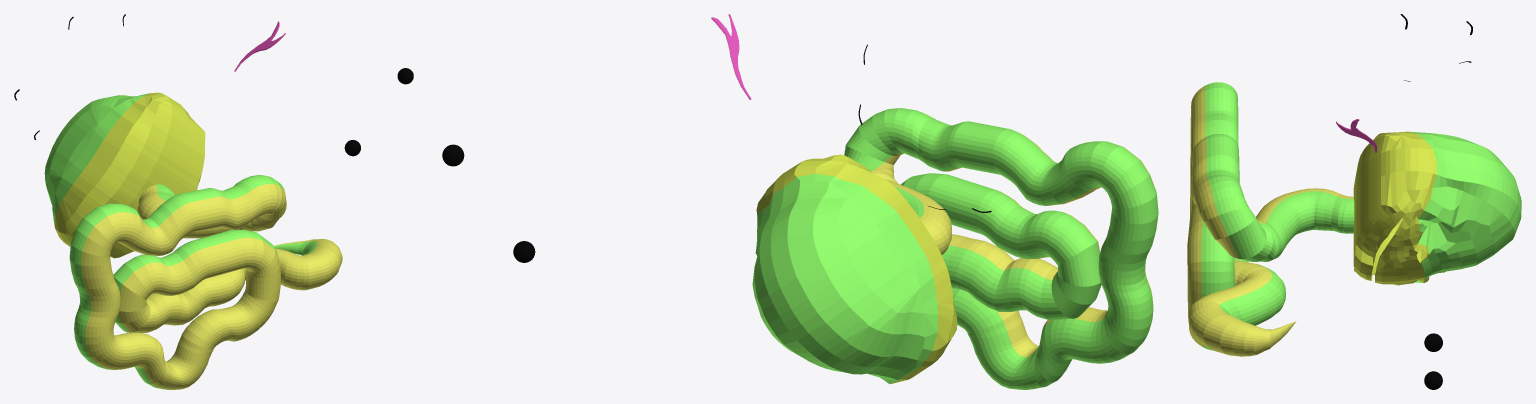
The model's file is snakeok.gltf.
The picture shows the model from 3 angles, left to right: view 1: azimuth 30°, elevation 25°; view 2: azimuth 150°, elevation 25°; view 3: azimuth 270°, elevation 25°; orthographic projection. The views are drawn at different scales.
Visible parts, largest first — view 1: Lower_Body, Lower_Head, Upper_Body, Upper_Head, Eyes, Tongue; view 2: Upper_Body, Upper_Head, Lower_Head, Lower_Body, Eyes, Tongue; view 3: Upper_Body, Lower_Head, Upper_Head, Lower_Body, Eyes, Tongue.
Part boxes in pixels (bbox=[...]): Lower_Body: bbox=[81, 183, 342, 389]; Lower_Head: bbox=[54, 92, 205, 258]; Upper_Body: bbox=[69, 175, 317, 389]; Upper_Head: bbox=[44, 93, 149, 224]; Eyes: bbox=[344, 68, 413, 156]; Tongue: bbox=[234, 21, 285, 71]; Upper_Body: bbox=[844, 108, 1158, 389]; Upper_Head: bbox=[752, 173, 937, 383]; Lower_Head: bbox=[756, 154, 957, 383]; Lower_Body: bbox=[871, 116, 1156, 357]; Eyes: bbox=[442, 144, 535, 262]; Tongue: bbox=[711, 14, 751, 99]; Upper_Body: bbox=[1201, 82, 1354, 356]; Lower_Head: bbox=[1353, 131, 1436, 285]; Upper_Head: bbox=[1409, 131, 1521, 283]; Lower_Body: bbox=[1187, 86, 1353, 356]; Eyes: bbox=[1424, 333, 1442, 389]; Tongue: bbox=[1336, 119, 1377, 152].
Bounding box in the file's own units: 14.56 × 9.81 × 8.48.
